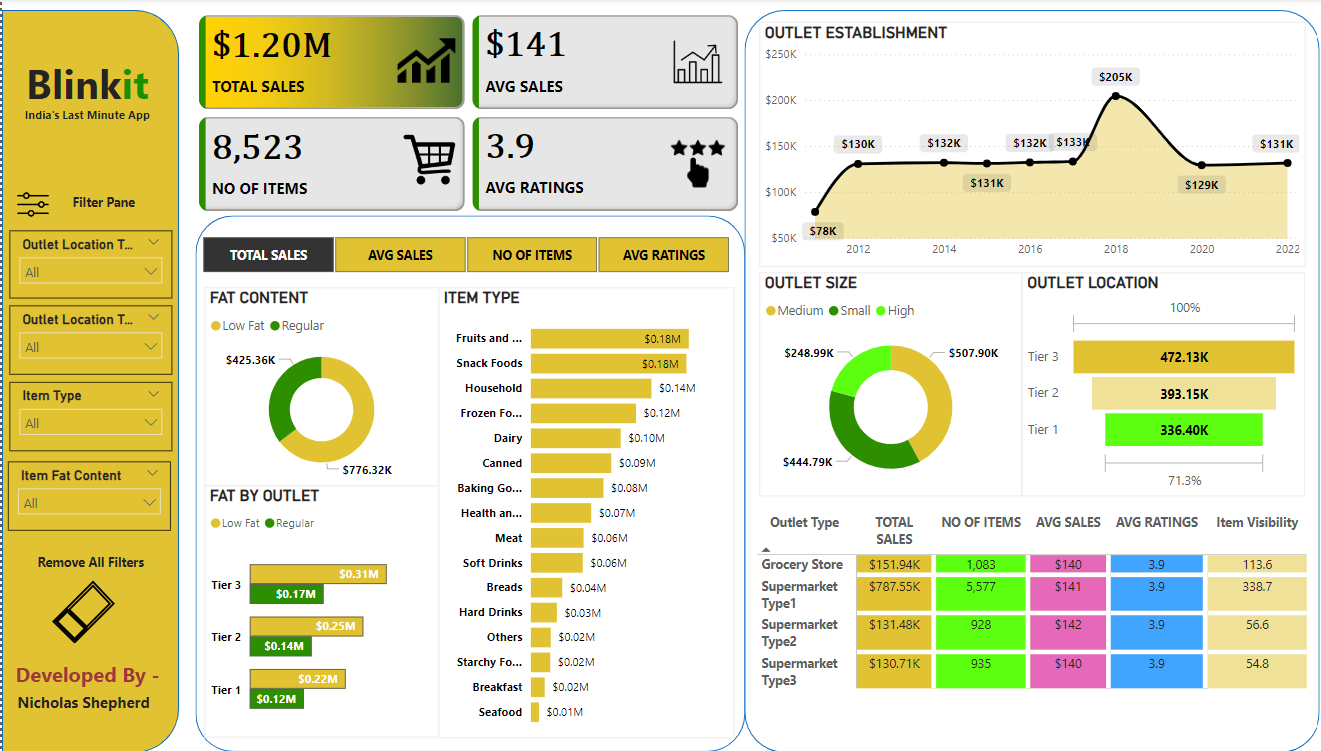

Layout of this report page (visuals, bound fields, positions):
{"tool":"powerbi","page":{"name":"Blinkit Dashboard","canvas":[1400,800],"ordinal":0},"visuals":[{"type":"shape","box":[0,12.6,187.9,788.1],"z":0},{"type":"cardVisual","fields":{"Data":["Measures_collections.TOTAL SALES","Measures_collections.AVG SALES","Measures_collections.NO OF ITEMS","Measures_collections.AVG RATINGS"]},"box":[204.3,12.6,583.8,219.4],"z":1000},{"type":"shape","box":[205,231.5,583.2,569.1],"z":2000},{"type":"slicer","fields":{"Values":["KPIs.KPIs"]},"box":[188.2,246.4,607.3,51.3],"z":3000},{"type":"donutChart","title":"FAT CONTENT","fields":{"Y":["Measures_collections.TOTAL SALES"],"Category":["BlinkIT Grocery Data.Item Fat Content"]},"box":[214.4,306.4,248.4,210.6],"z":4000},{"type":"clusteredBarChart","title":"FAT BY OUTLET","fields":{"Y":["Measures_collections.TOTAL SALES"],"Category":["BlinkIT Grocery Data.Outlet Location Type"],"Series":["BlinkIT Grocery Data.Item Fat Content"]},"box":[214.4,517,248.4,267.3],"z":5000},{"type":"clusteredBarChart","title":"ITEM TYPE","fields":{"Y":["Measures_collections.TOTAL SALES"],"Category":["BlinkIT Grocery Data.Item Type"]},"box":[462.7,306.4,314,477.9],"z":6000},{"type":"textbox","box":[10,56,162,74],"z":7000},{"type":"textbox","box":[10,108,162,46],"z":8000},{"type":"shape","box":[788,12.8,611.3,788],"z":9000},{"type":"lineChart","title":"OUTLET ESTABLISHMENT","fields":{"Y":["Measures_collections.TOTAL SALES"],"Category":["BlinkIT Grocery Data.Outlet Establishment Year"]},"box":[802.9,25.6,579.3,259.8],"z":10000},{"type":"donutChart","title":"OUTLET SIZE","fields":{"Y":["Measures_collections.TOTAL SALES"],"Category":["BlinkIT Grocery Data.Outlet Size"]},"box":[803.2,291.3,278.7,237],"z":11000},{"type":"funnel","title":"OUTLET LOCATION","fields":{"Y":["Sum(BlinkIT Grocery Data.Sales)"],"Category":["BlinkIT Grocery Data.Outlet Location Type"]},"box":[1081.8,291.3,300.1,237],"z":12000},{"type":"pivotTable","fields":{"Rows":["BlinkIT Grocery Data.Outlet Type"],"Values":["Measures_collections.TOTAL SALES","Measures_collections.NO OF ITEMS","Measures_collections.AVG SALES","Measures_collections.AVG RATINGS","Sum(BlinkIT Grocery Data.Item Visibility)"]},"box":[795.6,540.9,593.9,219.4],"z":13000},{"type":"slicer","fields":{"Values":["BlinkIT Grocery Data.Outlet Location Type"]},"box":[7.6,247.1,172.7,71.9],"z":14000},{"type":"slicer","fields":{"Values":["BlinkIT Grocery Data.Outlet Location Type"]},"box":[7.6,326.6,172.7,73.1],"z":15000},{"type":"slicer","fields":{"Values":["BlinkIT Grocery Data.Item Type"]},"box":[7.6,407.3,172.7,73.1],"z":16000},{"type":"image","box":[10.3,195,46.2,46.2],"z":17000},{"type":"textbox","box":[56.5,201.9,104.4,30.8],"z":18000},{"type":"slicer","fields":{"Values":["BlinkIT Grocery Data.Item Fat Content"]},"box":[6.8,491,172.8,73.6],"z":19000},{"type":"actionButton","box":[47.9,615.9,83.8,68.4],"z":20000},{"type":"textbox","box":[24,583.4,140.3,65],"z":21000},{"type":"textbox","box":[0,696.3,187.3,46],"z":22000},{"type":"textbox","box":[0,729.9,173.2,53],"z":22001}]}

Visuals, with their boxes in screenshot pixels (x1, y1, x2, y2), scaled from the page's 1400x800 canvas onto the 1321x751 screenshot:
shape: x1=0 y1=12 x2=177 y2=750
cardVisual - Measures_collections.TOTAL SALES x Measures_collections.AVG SALES: x1=193 y1=12 x2=744 y2=218
shape: x1=193 y1=217 x2=744 y2=750
slicer - KPIs.KPIs: x1=178 y1=231 x2=751 y2=279
"FAT CONTENT" donutChart: x1=202 y1=288 x2=437 y2=485
"FAT BY OUTLET" clusteredBarChart: x1=202 y1=485 x2=437 y2=736
"ITEM TYPE" clusteredBarChart: x1=437 y1=288 x2=733 y2=736
textbox: x1=9 y1=53 x2=162 y2=122
textbox: x1=9 y1=101 x2=162 y2=145
shape: x1=744 y1=12 x2=1320 y2=750
"OUTLET ESTABLISHMENT" lineChart: x1=758 y1=24 x2=1304 y2=268
"OUTLET SIZE" donutChart: x1=758 y1=273 x2=1021 y2=496
"OUTLET LOCATION" funnel: x1=1021 y1=273 x2=1304 y2=496
pivotTable - BlinkIT Grocery Data.Outlet Type x Measures_collections.TOTAL SALES: x1=751 y1=508 x2=1311 y2=714
slicer - BlinkIT Grocery Data.Outlet Location Type: x1=7 y1=232 x2=170 y2=299
slicer - BlinkIT Grocery Data.Outlet Location Type: x1=7 y1=307 x2=170 y2=375
slicer - BlinkIT Grocery Data.Item Type: x1=7 y1=382 x2=170 y2=451
image: x1=10 y1=183 x2=53 y2=226
textbox: x1=53 y1=190 x2=152 y2=218
slicer - BlinkIT Grocery Data.Item Fat Content: x1=6 y1=461 x2=169 y2=530
actionButton: x1=45 y1=578 x2=124 y2=642
textbox: x1=23 y1=548 x2=155 y2=609
textbox: x1=0 y1=654 x2=177 y2=697
textbox: x1=0 y1=685 x2=163 y2=735
